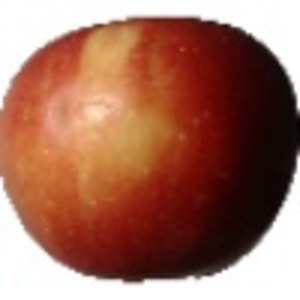maçã braeburn: (1, 15, 299, 281)
